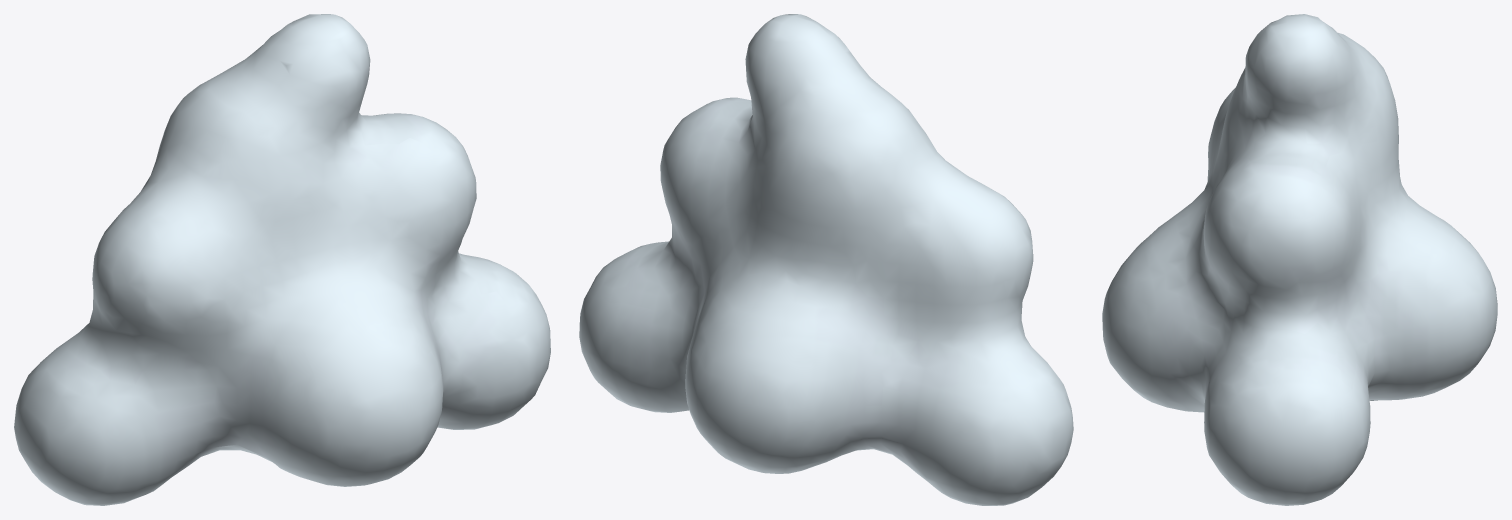
File: cloud_b.glb
3 renders of one model, left to right at view 1: azimuth 30°, elevation 25°; view 2: azimuth 150°, elevation 25°; view 3: azimuth 270°, elevation 25°, orthographic. The views are drawn at different scales.
Parts seen in each view (by area): view 1: cloud_b; view 2: cloud_b; view 3: cloud_b.
Part boxes in pixels (bbox=[...]): cloud_b: bbox=[14, 14, 550, 505]; cloud_b: bbox=[579, 14, 1073, 505]; cloud_b: bbox=[1102, 14, 1497, 505].
Size of the model in its own units: 3.06 by 2.51 by 2.2.
Materials: 1 (1 with a texture image).
